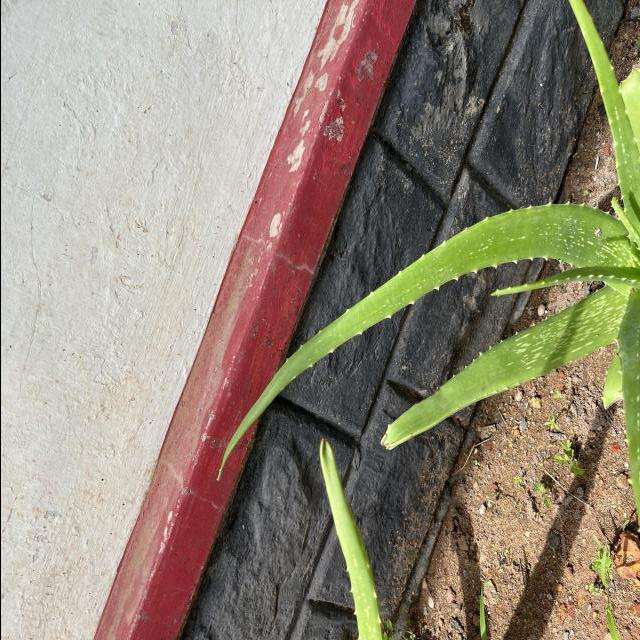Aloe vera: (373, 296, 617, 454)
